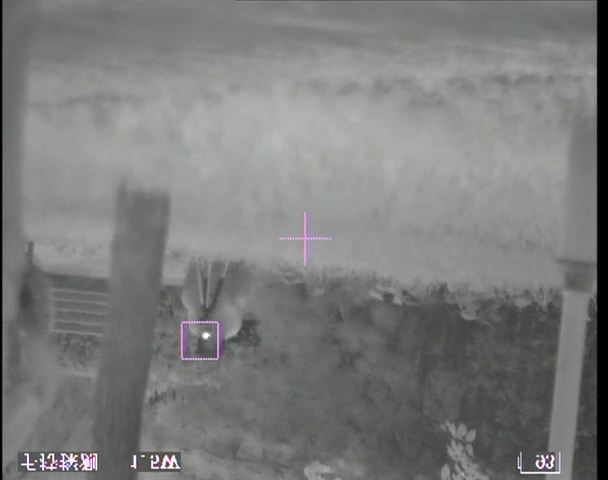my: (199, 329, 211, 341)
